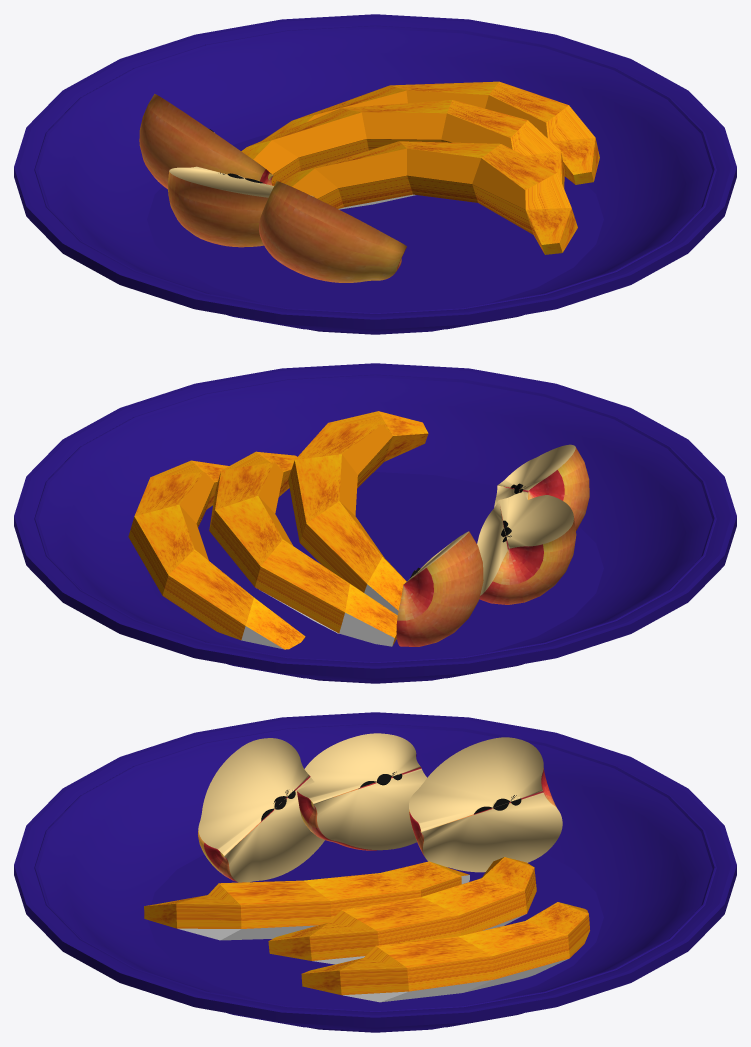
The model's file is pepaya apel.fbx.
3 views of the same model, one above another, from view 1: azimuth 30°, elevation 25°; view 2: azimuth 150°, elevation 25°; view 3: azimuth 270°, elevation 25° (orthographic).
Parts seen in each view (by area): view 1: piring.001, Cube.002, Cube.001, Apple.003, Cube, Apple.002, Apple.001; view 2: piring.001, Cube.001, Cube.002, Cube, Apple.002, Apple.001, Apple.003; view 3: piring.001, Apple.001, Cube, Apple.003, Cube.002, Cube.001, Apple.002.
Part boxes in pixels (left/top/right/bottom): piring.001: left=14, top=14, right=736, bottom=334; Cube.002: left=281, top=141, right=577, bottom=254; Cube.001: left=241, top=100, right=564, bottom=188; Apple.003: left=259, top=181, right=406, bottom=282; Cube: left=262, top=81, right=599, bottom=184; Apple.002: left=168, top=166, right=314, bottom=247; Apple.001: left=139, top=94, right=273, bottom=189; piring.001: left=14, top=363, right=736, bottom=683; Cube.001: left=209, top=451, right=397, bottom=646; Cube.002: left=288, top=411, right=428, bottom=615; Cube: left=128, top=460, right=305, bottom=649; Apple.002: left=477, top=492, right=576, bottom=604; Apple.001: left=396, top=531, right=483, bottom=646; Apple.003: left=494, top=444, right=589, bottom=530; piring.001: left=14, top=712, right=736, bottom=1032; Apple.001: left=409, top=737, right=562, bottom=872; Cube: left=301, top=902, right=589, bottom=1002; Apple.003: left=198, top=738, right=332, bottom=882; Cube.002: left=144, top=861, right=469, bottom=940; Cube.001: left=268, top=857, right=536, bottom=964; Apple.002: left=297, top=733, right=426, bottom=850.
Size of the model in its own units: 9706 by 1972 by 9706.
